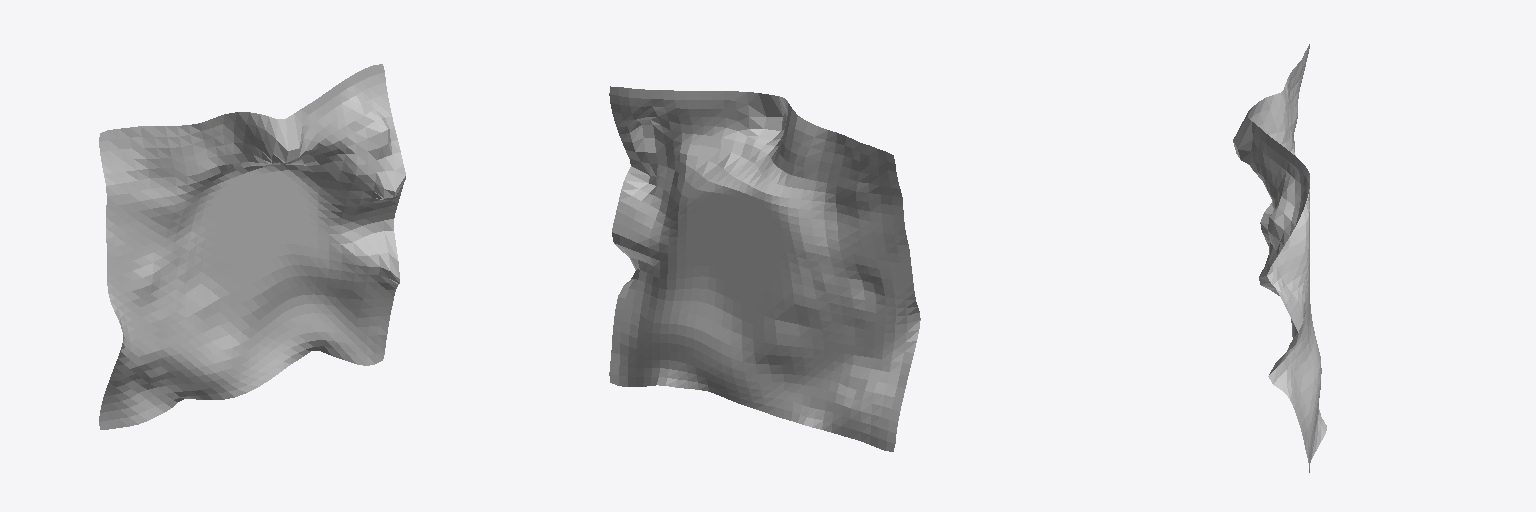
File: TexturedPavillionTerrain.OBJ
3 renders of one model, left to right at view 1: azimuth 30°, elevation 25°; view 2: azimuth 150°, elevation 25°; view 3: azimuth 270°, elevation 25°, orthographic.
Parts seen in each view (by area): view 1: Group20365; view 2: Group20365; view 3: Group20365.
Part boxes in pixels (x1,y1,x2,y2): Group20365: (99,64,405,429); Group20365: (609,86,920,451); Group20365: (1233,44,1326,472).
Bounding box in the file's own units: 2.06 × 2.03 × 0.5702.